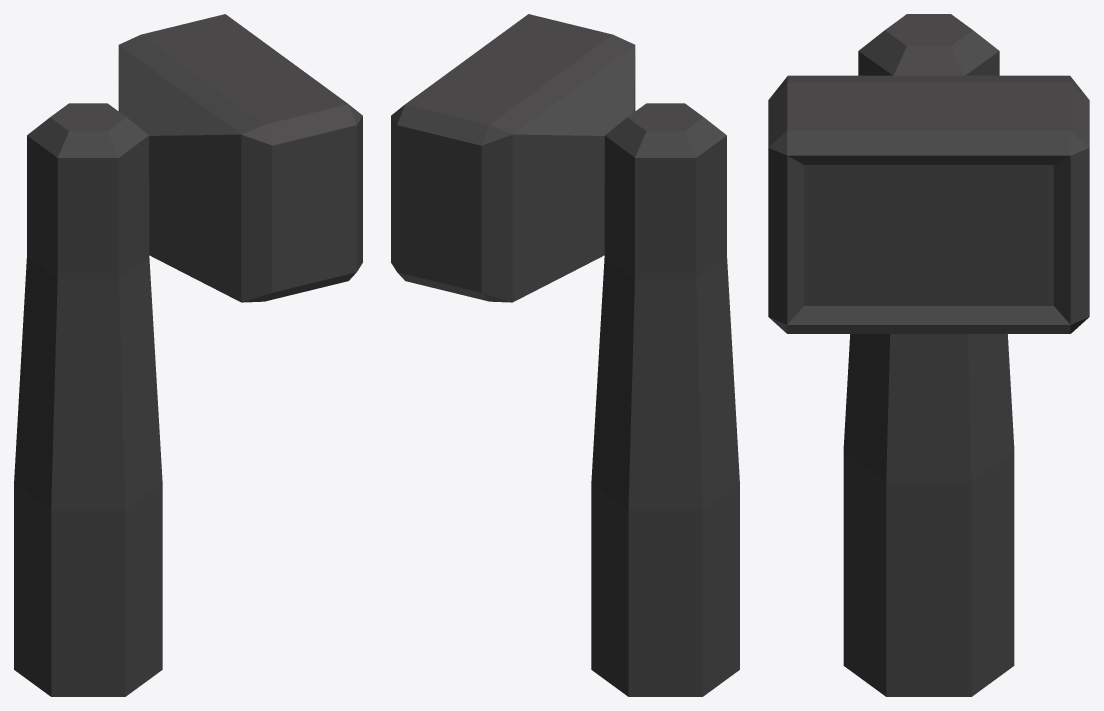
Rendered from MDDCamera.glb.
3 renders of one model, left to right at view 1: azimuth 30°, elevation 25°; view 2: azimuth 150°, elevation 25°; view 3: azimuth 270°, elevation 25°, orthographic. The views are drawn at different scales.
Parts seen in each view (by area): view 1: Cylinder.001; view 2: Cylinder.001; view 3: Cylinder.001.
Boxes of the visible parts, x1=… form: Cylinder.001: x1=14, y1=14, x2=362, y2=696; Cylinder.001: x1=391, y1=14, x2=739, y2=696; Cylinder.001: x1=768, y1=14, x2=1089, y2=696.
Bounding box in the file's own units: 0.9725 × 1.94 × 0.8756.
Materials: 1 (1 with a texture image).
